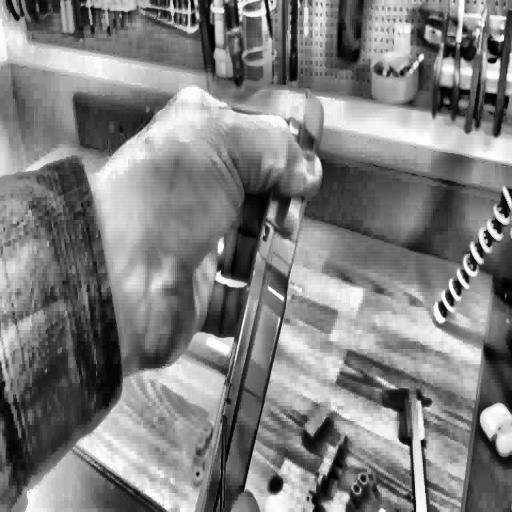busbar: (180, 62, 338, 512)
